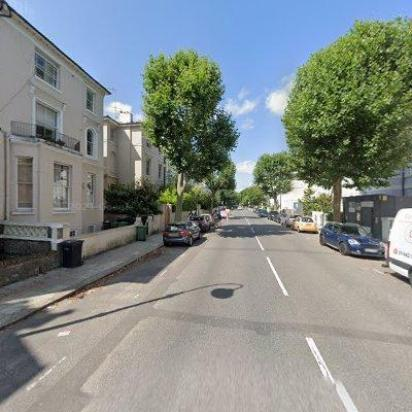moving-car: (238, 204, 244, 210)
stationary-car-onstreet: (318, 220, 386, 262), (163, 220, 201, 248), (292, 215, 320, 232), (188, 214, 210, 234), (281, 213, 299, 227), (274, 211, 285, 223), (258, 208, 270, 218), (268, 210, 278, 220)
stationary-light-truck-onstreet: (388, 206, 412, 286)
